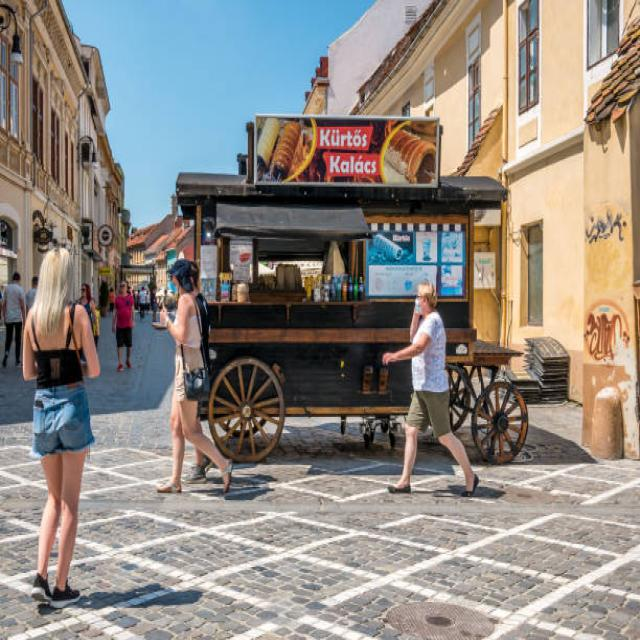Emperan: (165, 111, 536, 467)
